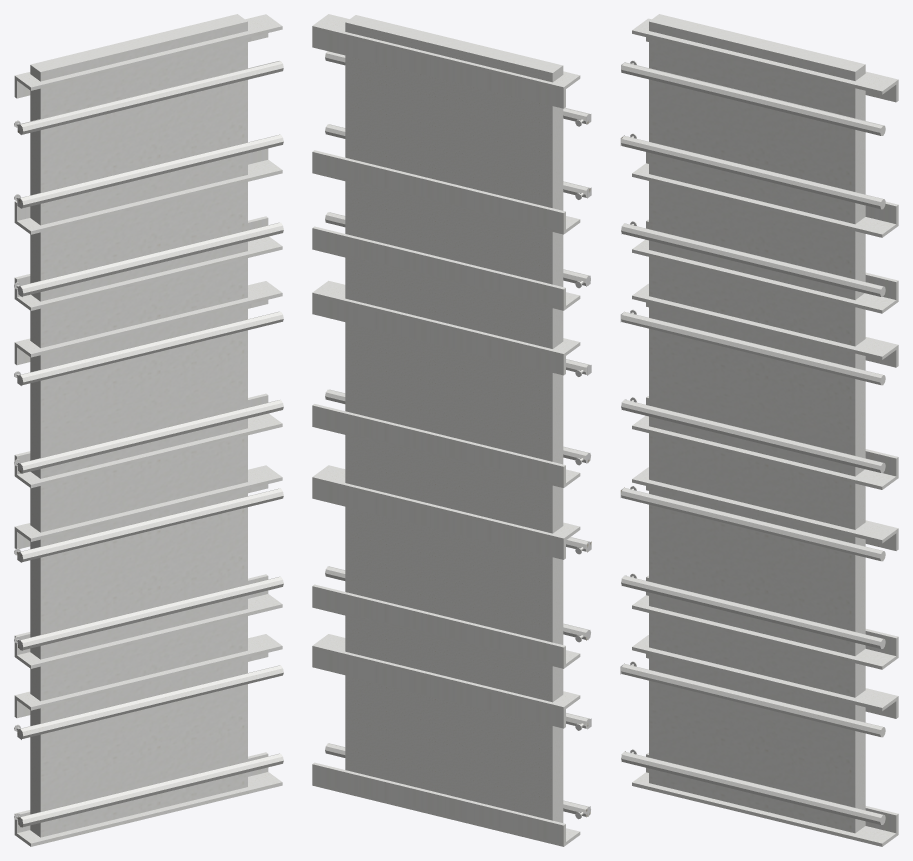
File: srqdz005-geode.glb
3 views of the same model, side by side, from view 1: azimuth 30°, elevation 25°; view 2: azimuth 150°, elevation 25°; view 3: azimuth 330°, elevation 25° (orthographic).
Visible parts, largest first — view 1: Node; view 2: Node; view 3: Node.
Part boxes in pixels (x1,y1,x2,y2): Node: (14, 14, 283, 846); Node: (312, 14, 591, 846); Node: (620, 14, 898, 846).
Size of the model in its own units: 1.71 by 4.8 by 0.2039.
2 materials, 2 textured.
